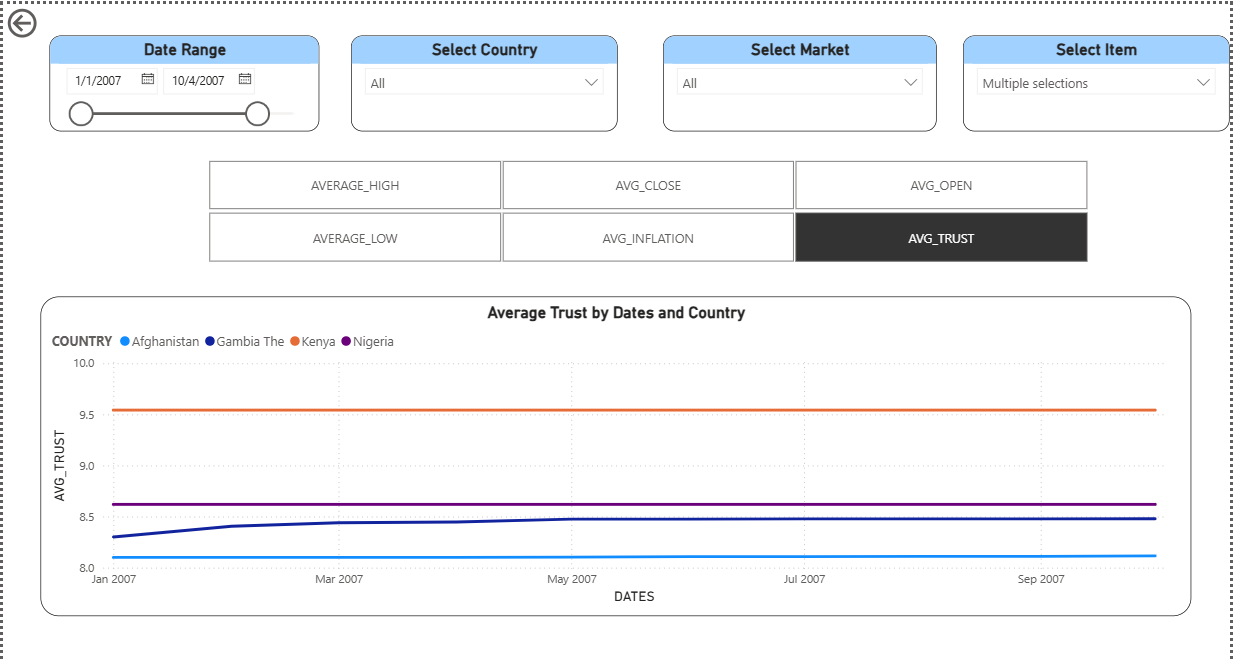

Layout of this report page (visuals, bound fields, positions):
{"tool":"powerbi","page":{"name":"Average price by markets ","canvas":[1280,720],"ordinal":2},"visuals":[{"type":"slicer","title":"Select Country","fields":{"Values":["s3_snowflake_realtime.COUNTRY"]},"box":[362.8,32.1,277.8,100.2],"z":0},{"type":"slicer","title":"Select Market","fields":{"Values":["s3_snowflake_realtime.MKT_NAME"]},"box":[687.9,32.1,285.4,100.2],"z":1000},{"type":"slicer","title":"Select Item","fields":{"Values":["s3_snowflake_realtime.ITEM"]},"box":[1001.6,32.1,277.8,100.2],"z":2000},{"type":"actionButton","box":[0,0,100,40],"z":3000},{"type":"slicer","title":"Date Range","fields":{"Values":["s3_snowflake_realtime.DATES"]},"box":[49.1,32.1,281.6,100.2],"z":4000},{"type":"lineChart","title":"Average Trust by Dates and Country","fields":{"Category":["s3_snowflake_realtime.DATES"],"Series":["s3_snowflake_realtime.COUNTRY"],"Y":["s3_snowflake_realtime.AVG_TRUST"]},"box":[39.7,304.7,1199.9,333.1],"z":5000},{"type":"slicer","fields":{"Values":["Custom_filters.Custom_filters"]},"box":[189.3,157.1,965.2,119.2],"z":5001}]}

Visuals, with their boxes on the page's 1280x720 design canvas (x1, y1, x2, y2). These are canvas units, not pixel positions in the 1234x660 screenshot, which may show the page scaled, cropped or inside an application window:
"Select Country" slicer: pyautogui.locateOnScreen(363, 32, 641, 132)
"Select Market" slicer: pyautogui.locateOnScreen(688, 32, 973, 132)
"Select Item" slicer: pyautogui.locateOnScreen(1002, 32, 1279, 132)
actionButton: pyautogui.locateOnScreen(0, 0, 100, 40)
"Date Range" slicer: pyautogui.locateOnScreen(49, 32, 331, 132)
"Average Trust by Dates and Country" lineChart: pyautogui.locateOnScreen(40, 305, 1240, 638)
slicer - Custom_filters.Custom_filters: pyautogui.locateOnScreen(189, 157, 1154, 276)
